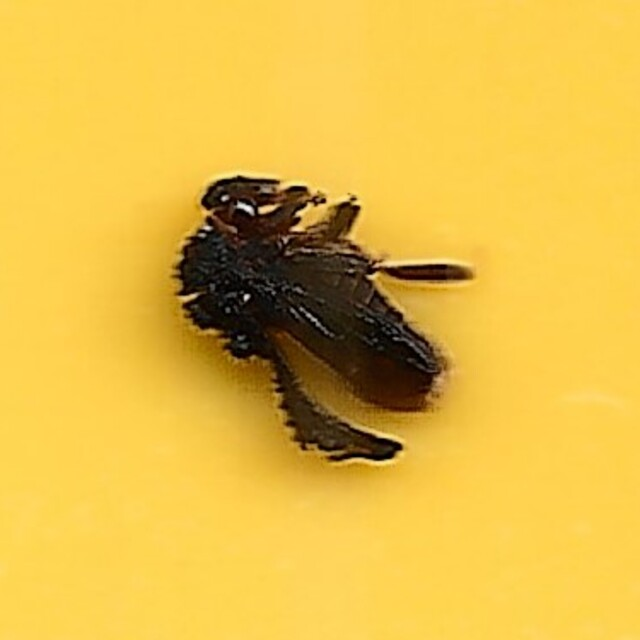Hemiptera: (171, 174, 469, 466)
